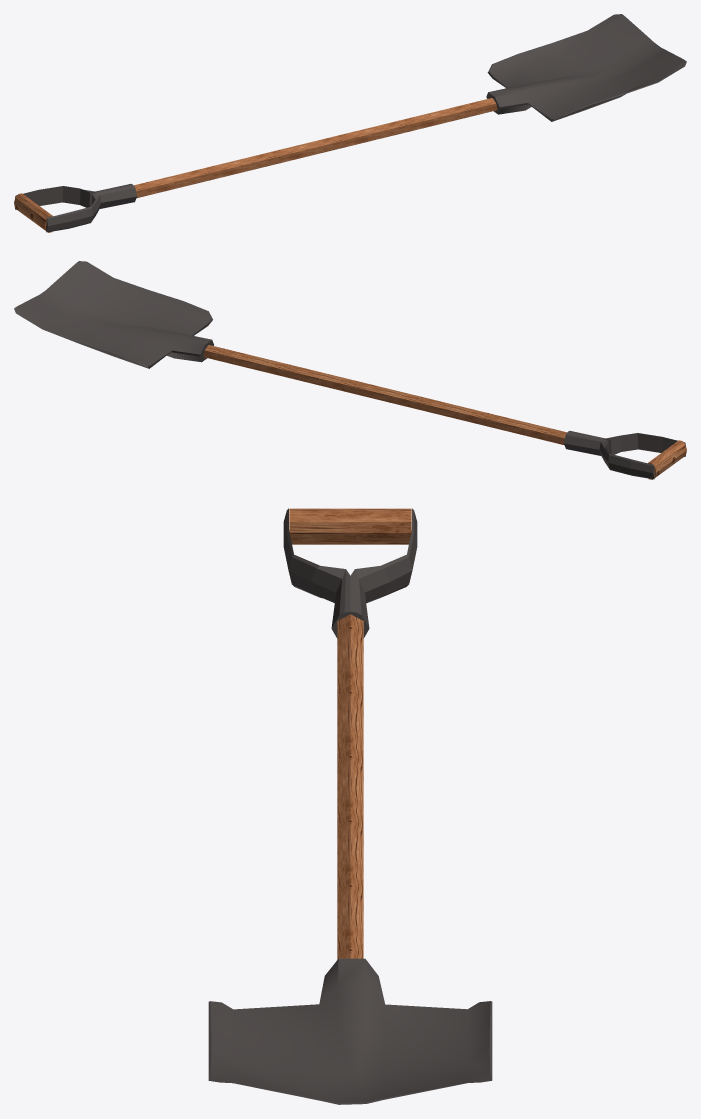
The model's file is lopata.fbx.
The picture shows the model from 3 angles, top to bottom: view 1: azimuth 30°, elevation 25°; view 2: azimuth 150°, elevation 25°; view 3: azimuth 270°, elevation 25°; orthographic projection. The views are drawn at different scales.
Parts seen in each view (by area): view 1: polySurface2; view 2: polySurface2; view 3: polySurface2.
Part boxes in pixels (x1=…): polySurface2: x1=14, y1=14, x2=686, y2=232; polySurface2: x1=14, y1=261, x2=686, y2=479; polySurface2: x1=208, y1=508, x2=492, y2=1104.
Size of the model in its own units: 4.75 by 0.2795 by 0.927.
Materials: 2 (1 with a texture image).
